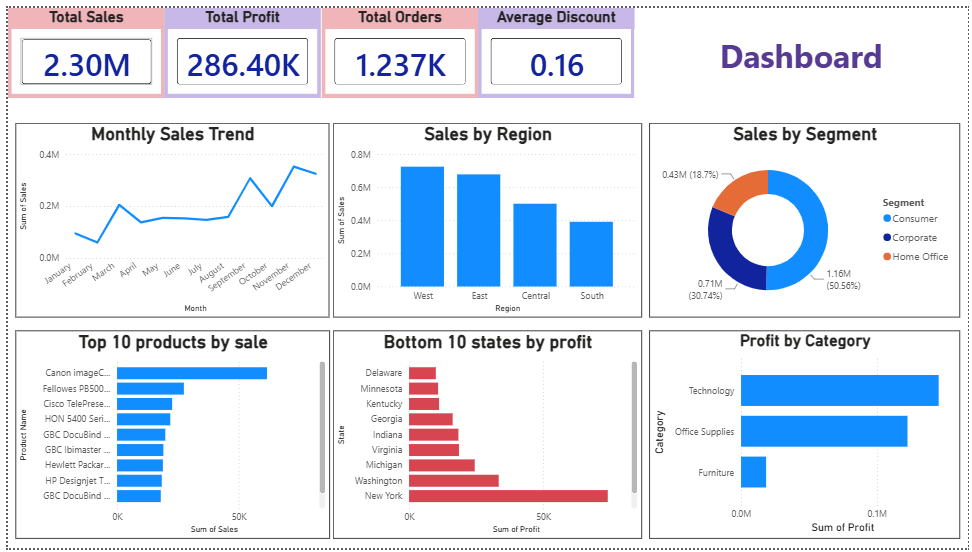

Layout of this report page (visuals, bound fields, positions):
{"tool":"powerbi","page":{"name":"Page 1","canvas":[1280,720],"ordinal":0},"visuals":[{"type":"cardVisual","title":"Total Sales","fields":{"Data":["Sum(Sample - Superstore.Sales)"]},"box":[0,0,209.1,119.8],"z":0},{"type":"lineChart","title":"Monthly Sales Trend","fields":{"Y":["Sum(Sample - Superstore.Sales)"],"Category":["Sample - Superstore.Order Date.Variation.Date Hierarchy.Month"]},"box":[9.8,154.1,418.2,259.2],"z":1000},{"type":"clusteredBarChart","title":"Profit by Category","fields":{"Y":["Sum(Sample - Superstore.Profit)"],"Category":["Sample - Superstore.Category"]},"box":[854.8,429.2,414.5,277.6],"z":2000},{"type":"clusteredColumnChart","title":"Sales by Region","fields":{"Y":["Sum(Sample - Superstore.Sales)"],"Category":["Sample - Superstore.Region"]},"box":[434.1,154.1,412.1,259.2],"z":3000},{"type":"donutChart","title":"Sales by Segment","fields":{"Category":["Sample - Superstore.Segment"],"Y":["Sum(Sample - Superstore.Sales)"]},"box":[854.8,154.1,414.5,259.2],"z":4000},{"type":"clusteredBarChart","title":"Top 10 products by sale","fields":{"Category":["Sample - Superstore.Product Name"],"Y":["Sum(Sample - Superstore.Sales)"]},"box":[9.8,429.2,419.4,277.6],"z":5000},{"type":"clusteredBarChart","title":"Bottom 10 states by profit","fields":{"Category":["Sample - Superstore.State"],"Y":["Sum(Sample - Superstore.Profit)"]},"box":[434.1,429.2,412.1,277.6],"z":6000},{"type":"cardVisual","title":"Total Profit","fields":{"Data":["Sum(Sample - Superstore.Profit)"]},"box":[209.1,0,209.1,119.8],"z":7000},{"type":"cardVisual","title":"Total Orders","fields":{"Data":["Count(Sample - Superstore.Order Date)"]},"box":[418.2,0,209.1,119.8],"z":8000},{"type":"cardVisual","title":"Average Discount","fields":{"Data":["Avg(Sample - Superstore.Discount)"]},"box":[627.3,0,209.1,119.8],"z":9000},{"type":"textbox","box":[835,28.3,445,91.7],"z":10000}]}

Visuals, with their boxes in screenshot pixels (x1, y1, x2, y2), scaled from the page's 1280x720 canvas onto the 972x552 screenshot:
"Total Sales" cardVisual: [x1=0, y1=0, x2=159, y2=92]
"Monthly Sales Trend" lineChart: [x1=7, y1=118, x2=325, y2=317]
"Profit by Category" clusteredBarChart: [x1=649, y1=329, x2=964, y2=542]
"Sales by Region" clusteredColumnChart: [x1=330, y1=118, x2=643, y2=317]
"Sales by Segment" donutChart: [x1=649, y1=118, x2=964, y2=317]
"Top 10 products by sale" clusteredBarChart: [x1=7, y1=329, x2=326, y2=542]
"Bottom 10 states by profit" clusteredBarChart: [x1=330, y1=329, x2=643, y2=542]
"Total Profit" cardVisual: [x1=159, y1=0, x2=318, y2=92]
"Total Orders" cardVisual: [x1=318, y1=0, x2=476, y2=92]
"Average Discount" cardVisual: [x1=476, y1=0, x2=635, y2=92]
textbox: [x1=634, y1=22, x2=971, y2=92]
